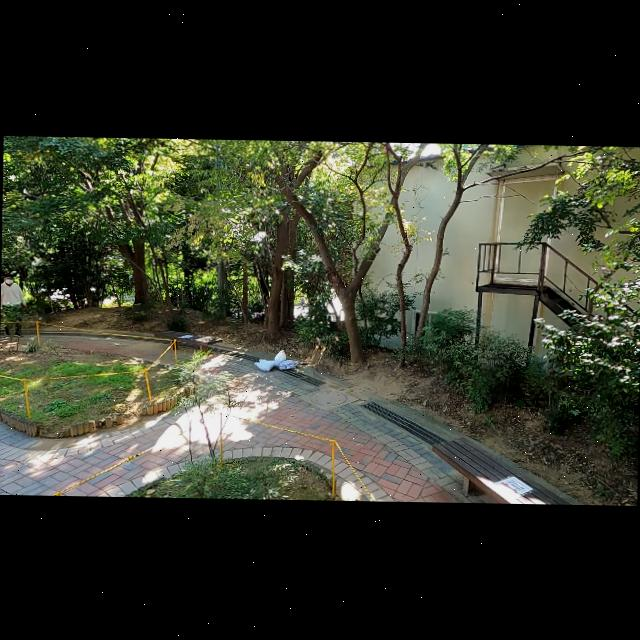trash: (252, 357, 274, 371), (278, 358, 296, 370), (274, 347, 284, 368)
